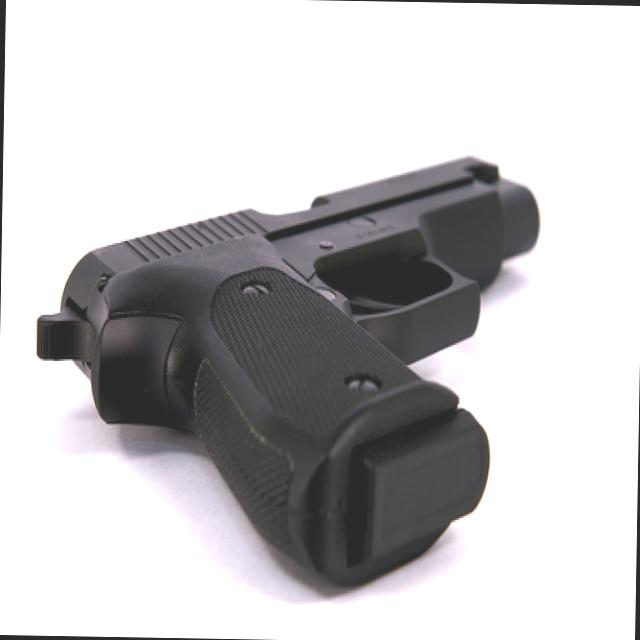handgun: (31, 142, 540, 576)
